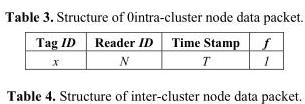table: (35, 34, 268, 67)
table column: (161, 34, 250, 67), (84, 34, 161, 67), (35, 34, 84, 67), (250, 34, 268, 67)
table column header: (35, 34, 268, 50)
table row: (35, 50, 268, 67), (35, 34, 268, 50)
